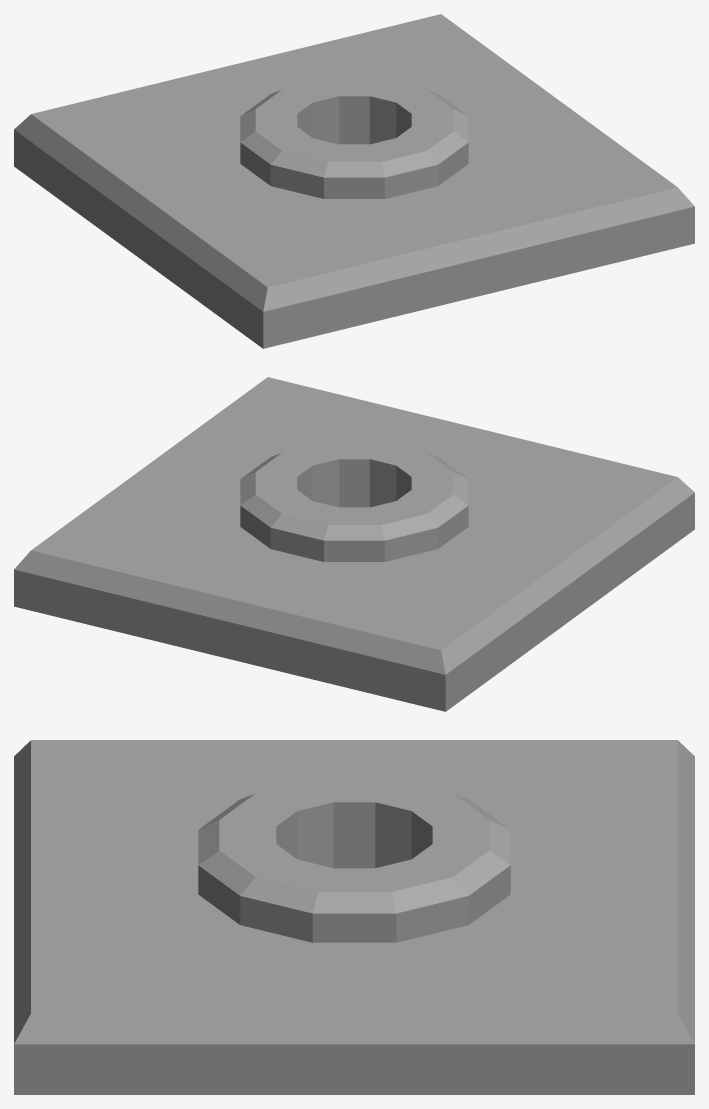
File: SingleSpikeMetalTrap_2.fbx
3 renders of one model, top to bottom at view 1: azimuth 30°, elevation 25°; view 2: azimuth 150°, elevation 25°; view 3: azimuth 270°, elevation 25°, orthographic. The views are drawn at different scales.
Visible parts, largest first — view 1: SingleSpikeMetalTrap_2; view 2: SingleSpikeMetalTrap_2; view 3: SingleSpikeMetalTrap_2.
Boxes of the visible parts, bbox=[...] form: SingleSpikeMetalTrap_2: bbox=[14, 14, 694, 348]; SingleSpikeMetalTrap_2: bbox=[14, 377, 694, 711]; SingleSpikeMetalTrap_2: bbox=[14, 740, 694, 1094].
Bounding box in the file's own units: 40.12 × 7.52 × 40.12.
